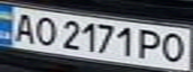1: (115, 24, 139, 57), (78, 20, 100, 53)
2: (57, 17, 81, 52)
7: (93, 21, 118, 55)
A: (9, 10, 39, 44)
O: (157, 30, 190, 63), (30, 15, 60, 47)
P: (136, 27, 166, 61)
